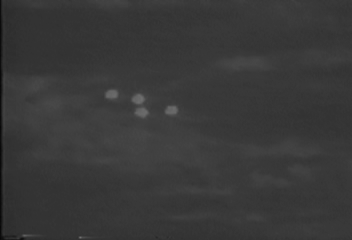Target: (106, 90, 178, 118)
